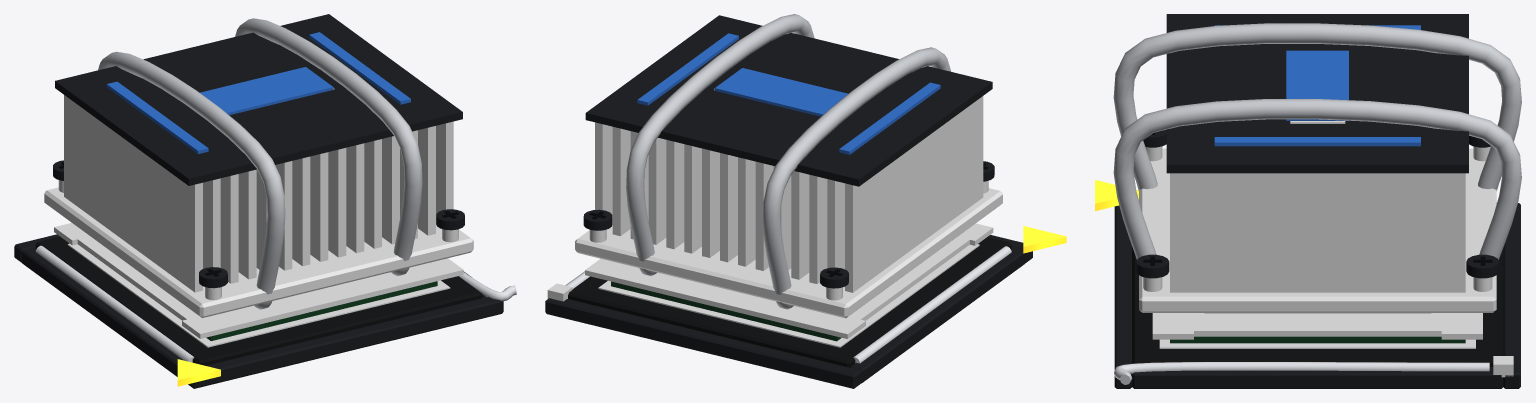
File: hwm_cpu_i7_12700.glb
3 renders of one model, left to right at view 1: azimuth 30°, elevation 25°; view 2: azimuth 150°, elevation 25°; view 3: azimuth 270°, elevation 25°, orthographic. The views are drawn at different scales.
Parts seen in each view (by area): view 1: Cooler, Socket, Frame, CPU, Screw_1, Screw_3, Lever; view 2: Cooler, Socket, Frame, CPU, Screw_2, Screw_0; view 3: Cooler, Socket, Frame, Lever, CPU, Screw_2, Screw_3, Screw_1, Screw_0.
Boxes of the visible parts, box(x1,y1,x2,y2) form: Cooler: box(44, 14, 473, 317); Socket: box(14, 234, 503, 388); Frame: box(54, 223, 463, 338); CPU: box(206, 281, 437, 340); Screw_1: box(199, 267, 227, 300); Screw_3: box(436, 209, 464, 242); Lever: box(459, 272, 516, 301); Cooler: box(575, 14, 1002, 318); Socket: box(545, 226, 1066, 388); Frame: box(585, 223, 993, 338); CPU: box(611, 281, 841, 341); Screw_2: box(583, 209, 612, 242); Screw_0: box(820, 267, 848, 300); Cooler: box(1113, 14, 1521, 312); Socket: box(1095, 180, 1520, 388); Frame: box(1152, 313, 1482, 339); Lever: box(1114, 362, 1489, 384); CPU: box(1170, 313, 1465, 343); Screw_2: box(1466, 254, 1499, 291); Screw_3: box(1136, 254, 1169, 291); Screw_1: box(1143, 129, 1166, 161); Screw_0: box(1469, 135, 1490, 161).
Bounding box in the file's own units: 0.1338 × 0.0775 × 0.1241.
